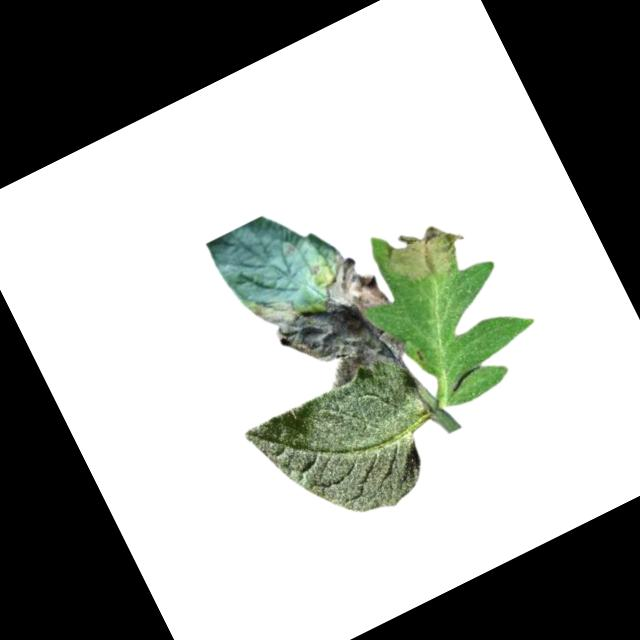Late_blight: (241, 238, 411, 409), (375, 206, 479, 299)
healthy: (237, 347, 462, 553)
